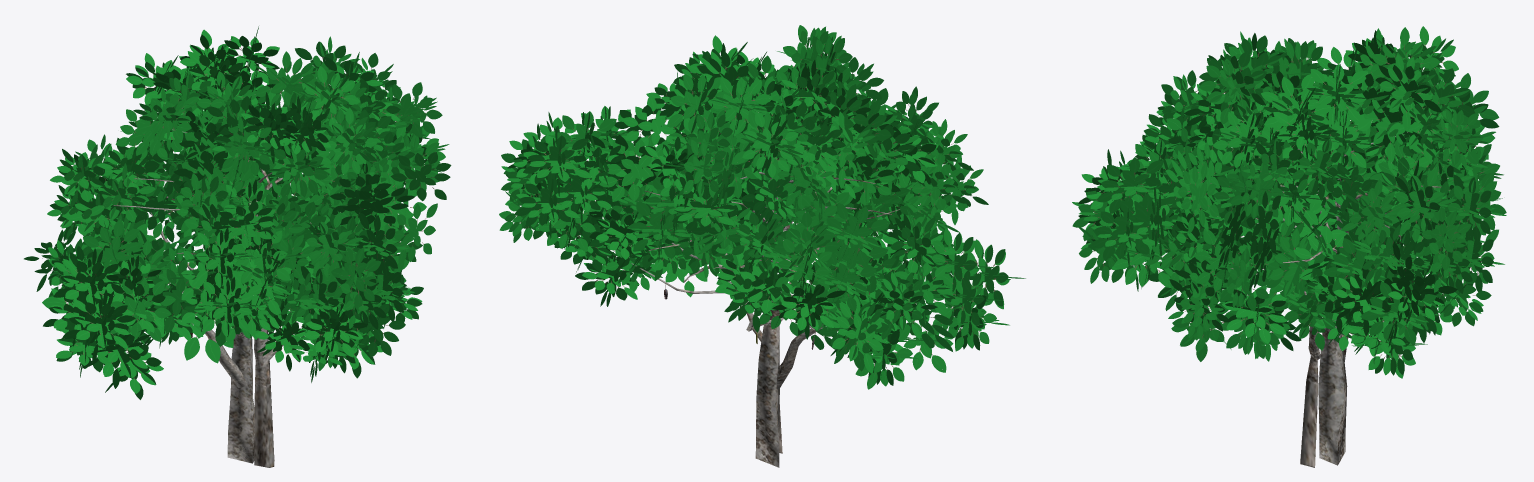
Rendered from LOD_Tree_NEW.fbx.
3 views of the same model, side by side, from view 1: azimuth 30°, elevation 25°; view 2: azimuth 150°, elevation 25°; view 3: azimuth 270°, elevation 25° (orthographic). The views are drawn at different scales.
Visible parts, largest first — view 1: Tree_LDO_0, Tree_LDO_1, Tree_LDO_2; view 2: Tree_LDO_0, Tree_LDO_1, Tree_LDO_2; view 3: Tree_LDO_0, Tree_LDO_1, Tree_LDO_2.
Boxes of the visible parts, box(x1,y1,x2,y2) form: Tree_LDO_0: box(24, 36, 441, 466); Tree_LDO_1: box(37, 29, 451, 467); Tree_LDO_2: box(36, 26, 427, 393); Tree_LDO_0: box(499, 31, 1021, 467); Tree_LDO_1: box(505, 25, 1025, 455); Tree_LDO_2: box(501, 37, 989, 373); Tree_LDO_0: box(1080, 33, 1504, 467); Tree_LDO_1: box(1072, 26, 1506, 463); Tree_LDO_2: box(1072, 27, 1506, 384).
Size of the model in its own units: 2296 by 2007 by 1914.
Materials: 4 (4 with a texture image).
